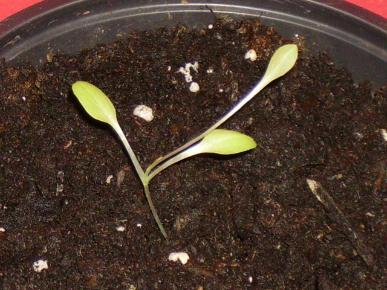lettuce: (52, 72, 302, 258)
